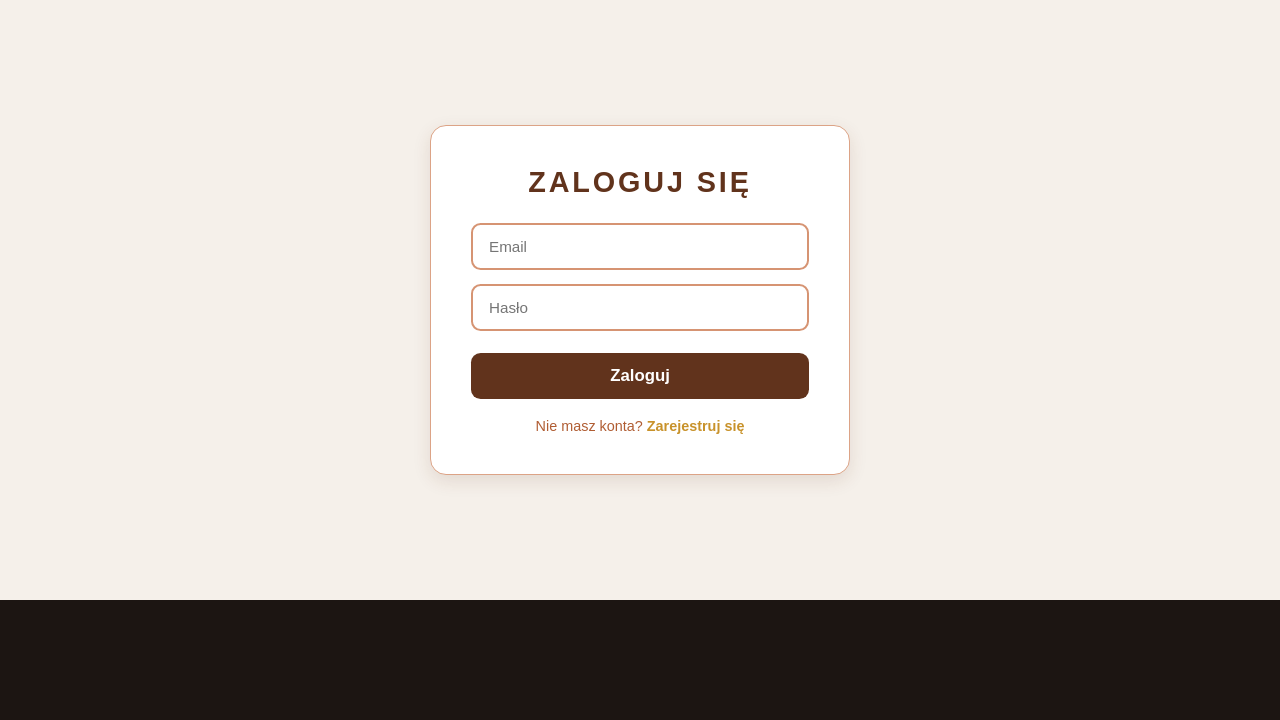
Scenario: Login Component Tests › should switch to register form
The width and height of the screenshot is (1280, 720).
Click the button "Zarejestruj się" at (696, 426), box x1=647 y1=418 x2=744 y2=434
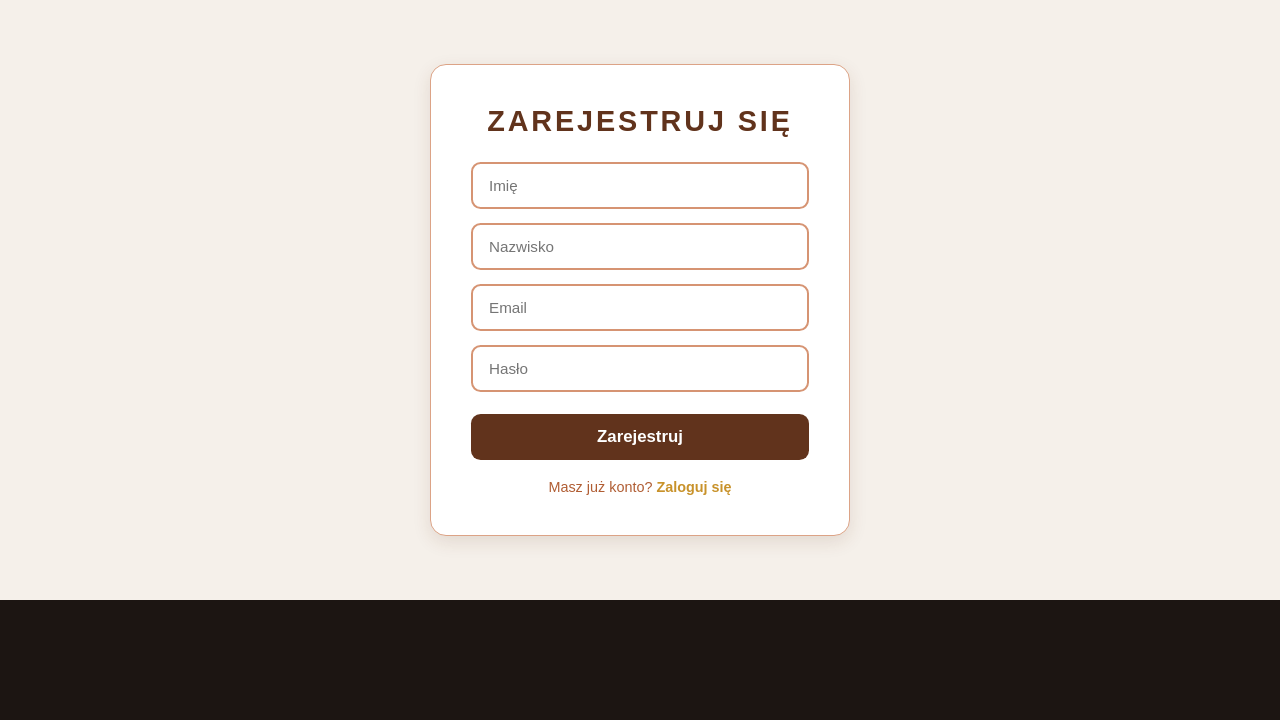
Expected: the heading "Zarejestruj się" is shown, x1=471 y1=105 x2=809 y2=138
Expected: the field with placeholder "Imię" is shown, x1=471 y1=162 x2=809 y2=209
Expected: the field with placeholder "Nazwisko" is shown, x1=471 y1=223 x2=809 y2=270
